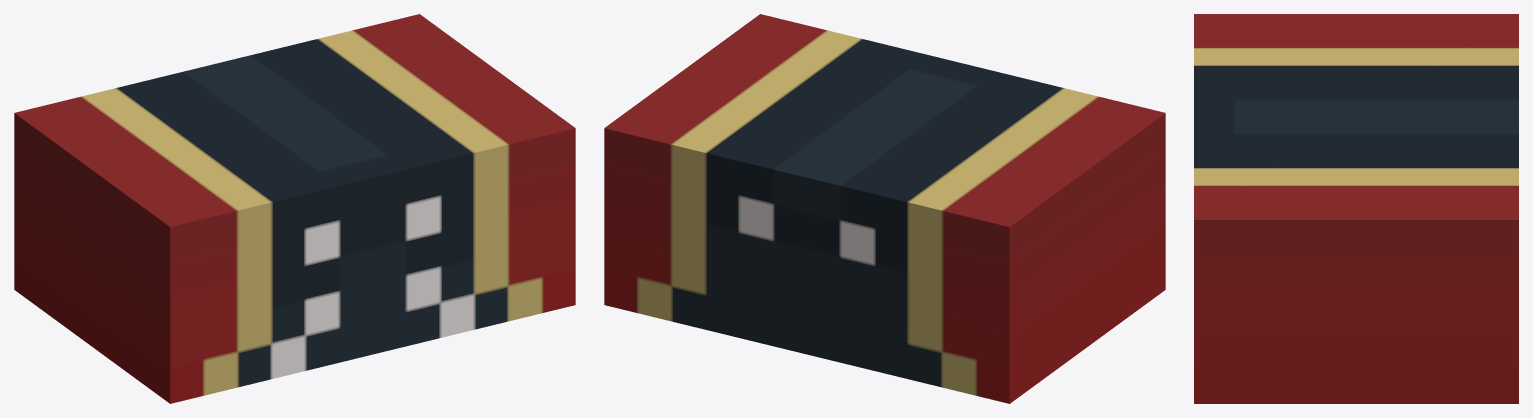
3 views of the same model, side by side, from view 1: azimuth 30°, elevation 25°; view 2: azimuth 150°, elevation 25°; view 3: azimuth 270°, elevation 25° (orthographic). The views are drawn at different scales.
Parts seen in each view (by area): view 1: Root069; view 2: Root069; view 3: Root069.
Boxes of the visible parts, x1,y1,x2,y2 form: Root069: (14,14,575,403); Root069: (604,14,1165,403); Root069: (1194,14,1518,403).
Bounding box in the file's own units: 12 × 5 × 8.
